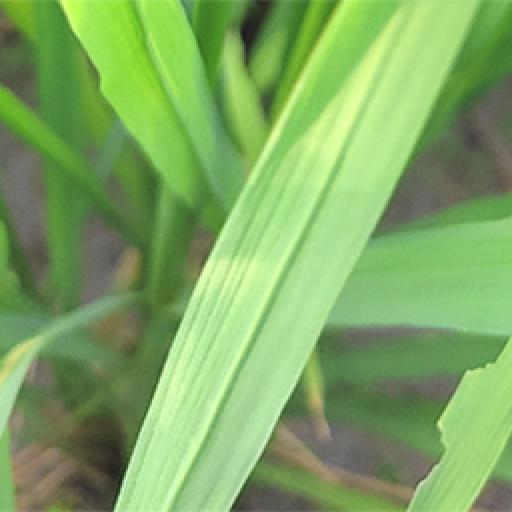Healthy Leaf: (112, 2, 480, 512)
